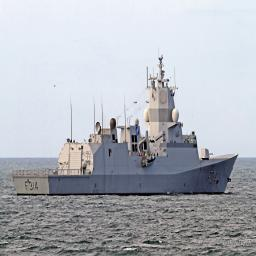Fragata: (11, 53, 241, 200)
